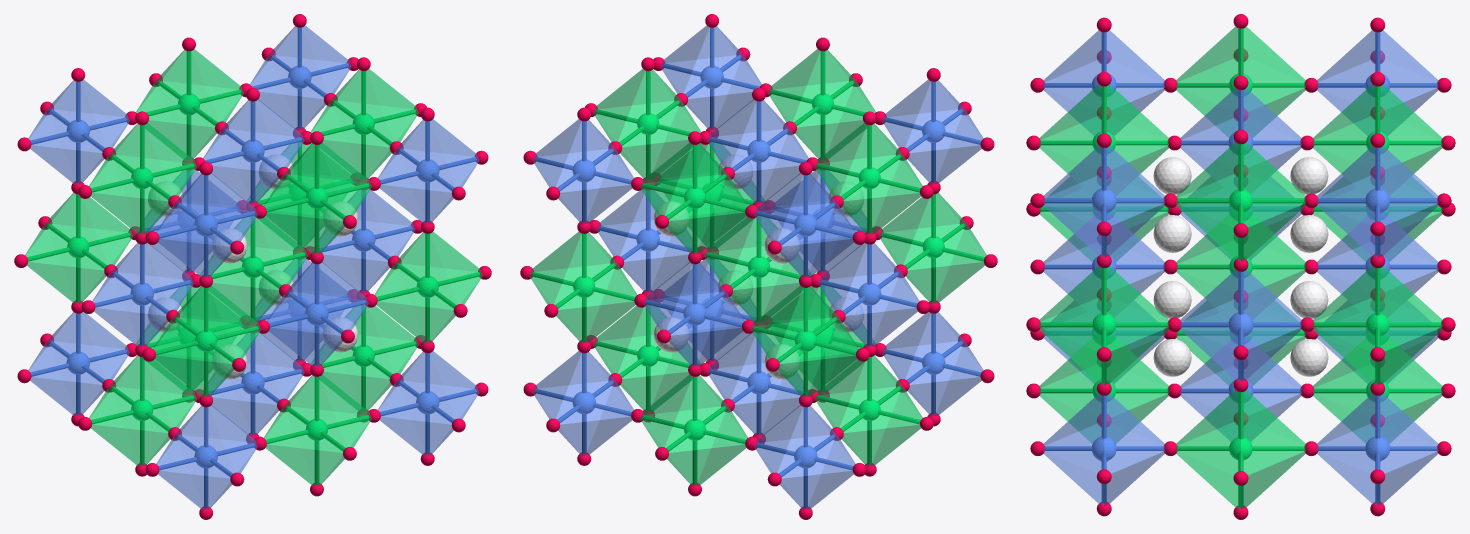
Rendered from 3D_structure_of_DPO.glb.
The picture shows the model from 3 angles, left to right: view 1: azimuth 30°, elevation 25°; view 2: azimuth 150°, elevation 25°; view 3: azimuth 270°, elevation 25°; orthographic projection. The views are drawn at different scales.
Parts seen in each view (by area): view 1: NiO6_octahedra, WO6_octahedra, Ni_O_bonds, W_O_bonds, O_atoms, Sr_atoms, W_atoms, Ni_atoms; view 2: NiO6_octahedra, WO6_octahedra, Ni_O_bonds, W_O_bonds, O_atoms, Sr_atoms, W_atoms, Ni_atoms; view 3: NiO6_octahedra, WO6_octahedra, O_atoms, Ni_O_bonds, W_O_bonds, Sr_atoms, W_atoms, Ni_atoms.
Part boxes in pixels (x1,y1,x2,y2): NiO6_octahedra: (25,49,482,486); WO6_octahedra: (28,25,479,509); Ni_O_bonds: (27,51,479,484); W_O_bonds: (30,27,476,507); O_atoms: (14,14,491,519); Sr_atoms: (148,154,358,379); W_atoms: (66,65,439,468); Ni_atoms: (67,93,438,440); NiO6_octahedra: (529,49,986,486); WO6_octahedra: (532,25,983,509); Ni_O_bonds: (532,51,984,484); W_O_bonds: (535,27,981,507); O_atoms: (520,14,997,519); Sr_atoms: (653,154,863,379); W_atoms: (572,65,945,468); Ni_atoms: (573,93,944,440); NiO6_octahedra: (1039,26,1442,509); WO6_octahedra: (1043,30,1438,505); O_atoms: (1026,14,1455,519); Ni_O_bonds: (1041,28,1440,506); W_O_bonds: (1045,32,1436,503); Sr_atoms: (1153,157,1328,376); W_atoms: (1092,74,1389,460); Ni_atoms: (1092,74,1389,459).
Bounding box in the file's own units: 12.58 × 12.58 × 12.58.
